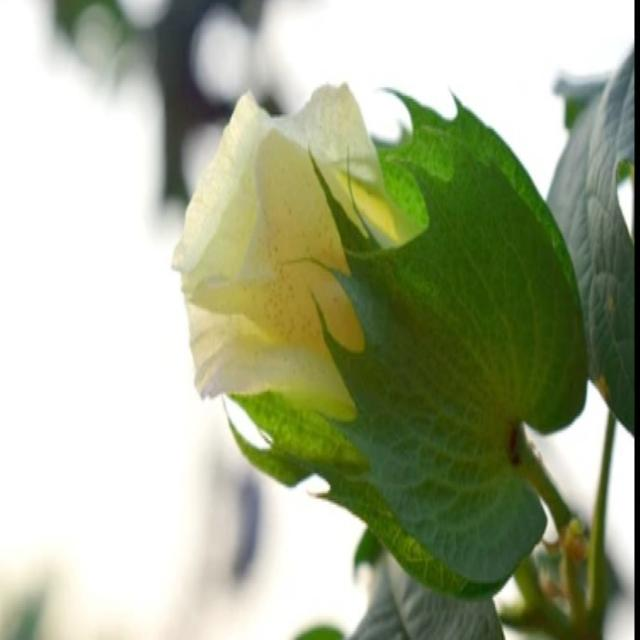Cotton Blossom: (177, 76, 578, 598)
